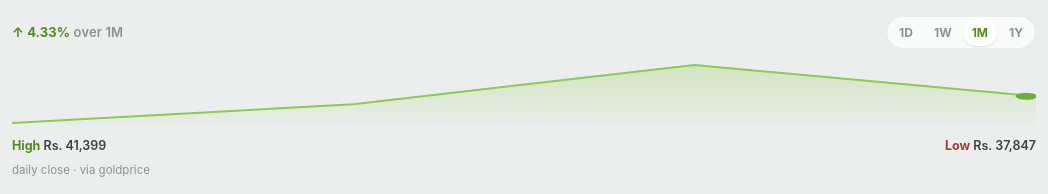
Test: range selection › loads a different series when another range is picked
The image size is (1048, 194).
Check: the text "High Rs. 41,399" is shown, box [12, 137, 106, 156]
Click the tab "1Y".
click(1016, 33)  # box [999, 19, 1033, 46]
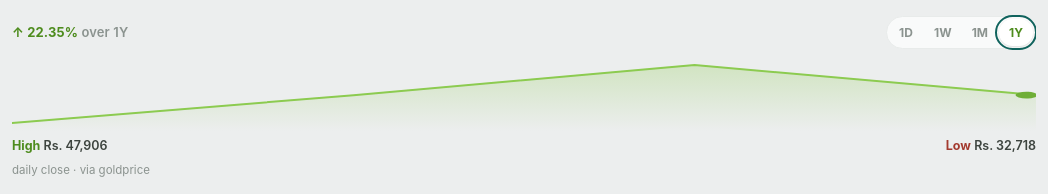
Check: the text "High Rs. 47,906" is shown, box [12, 137, 108, 156]
